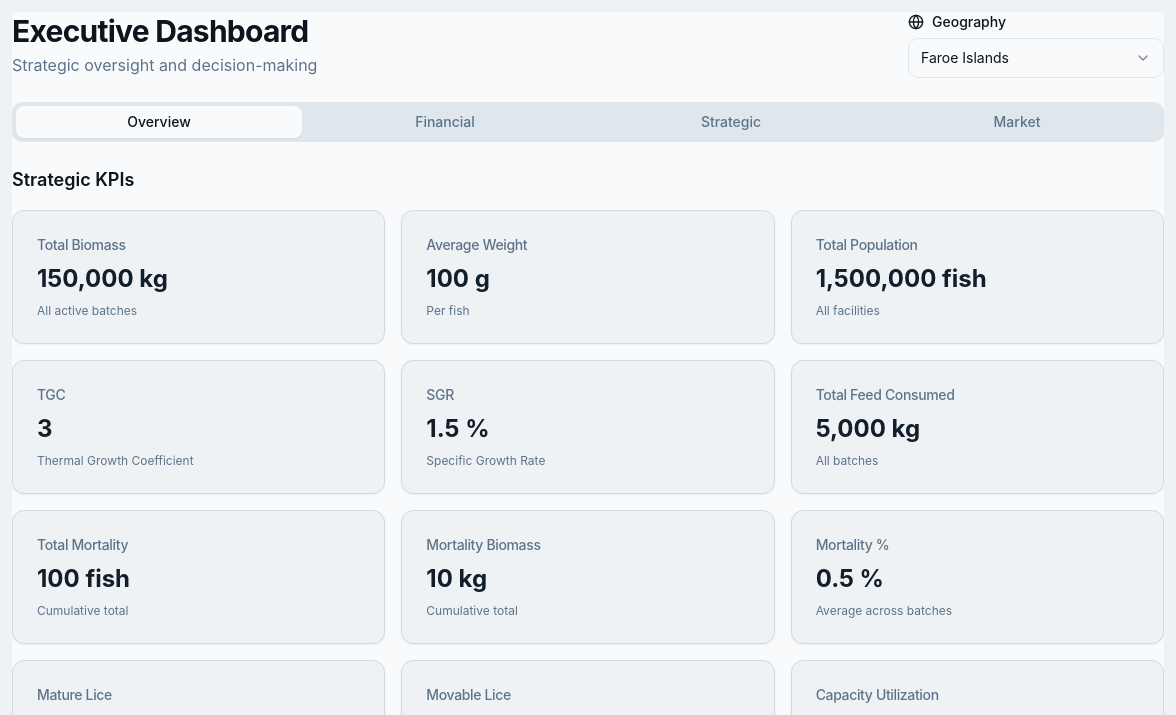
Test: ExecutiveDashboardPage › should switch tabs when clicked
The image size is (1176, 715).
Note: Click Financial tab
Step 1. Click the tab "Financial" → [445, 122], box [302,106,588,138]
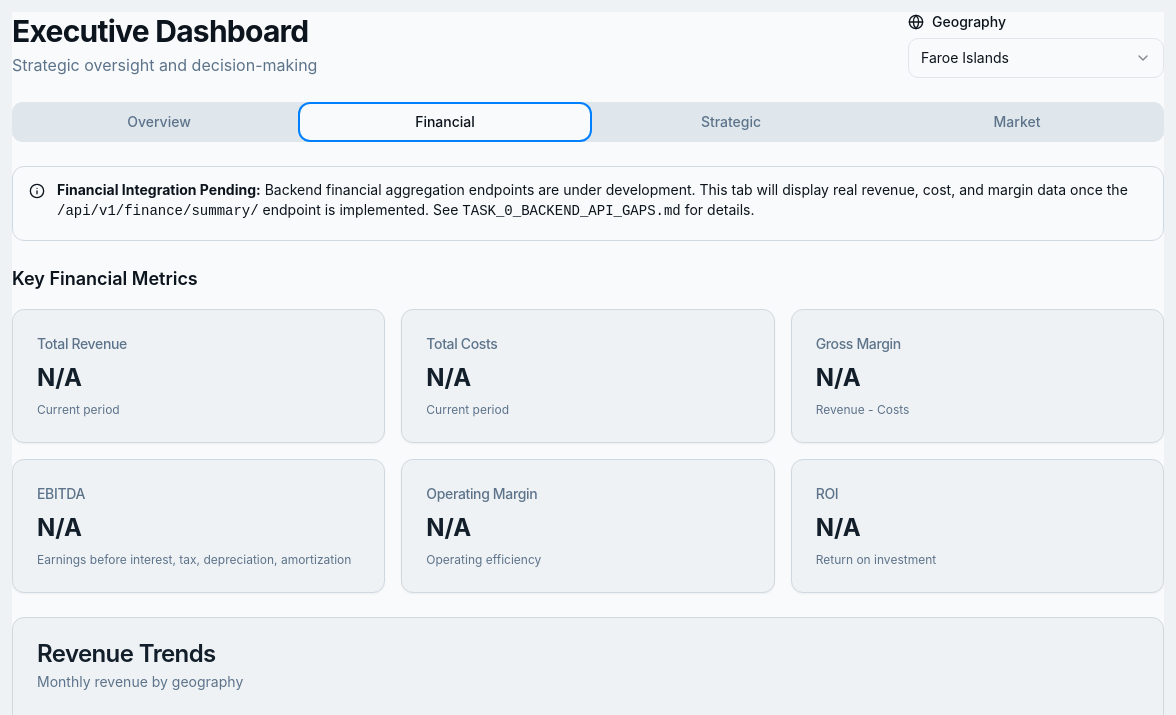
Expected: the text "Financial Integration Pending:" is shown, [57,181,261,198]
